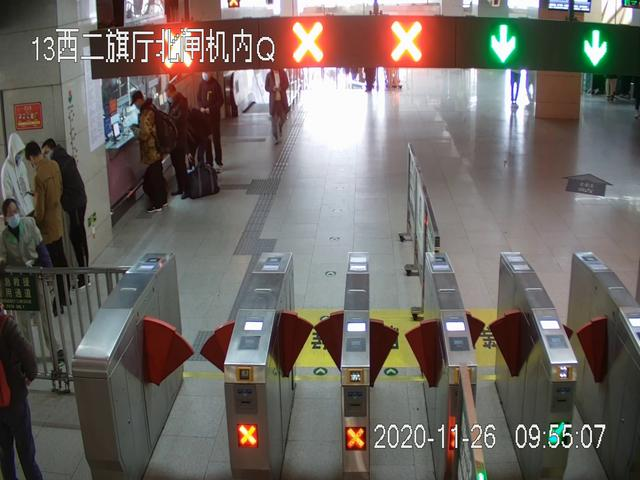person: (1, 197, 52, 368), (39, 138, 91, 290), (24, 140, 66, 313), (129, 90, 175, 216), (1, 132, 36, 258), (164, 86, 196, 198), (200, 71, 226, 169), (265, 69, 288, 143)
